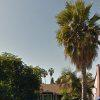Palm tree: (54, 2, 99, 96)
